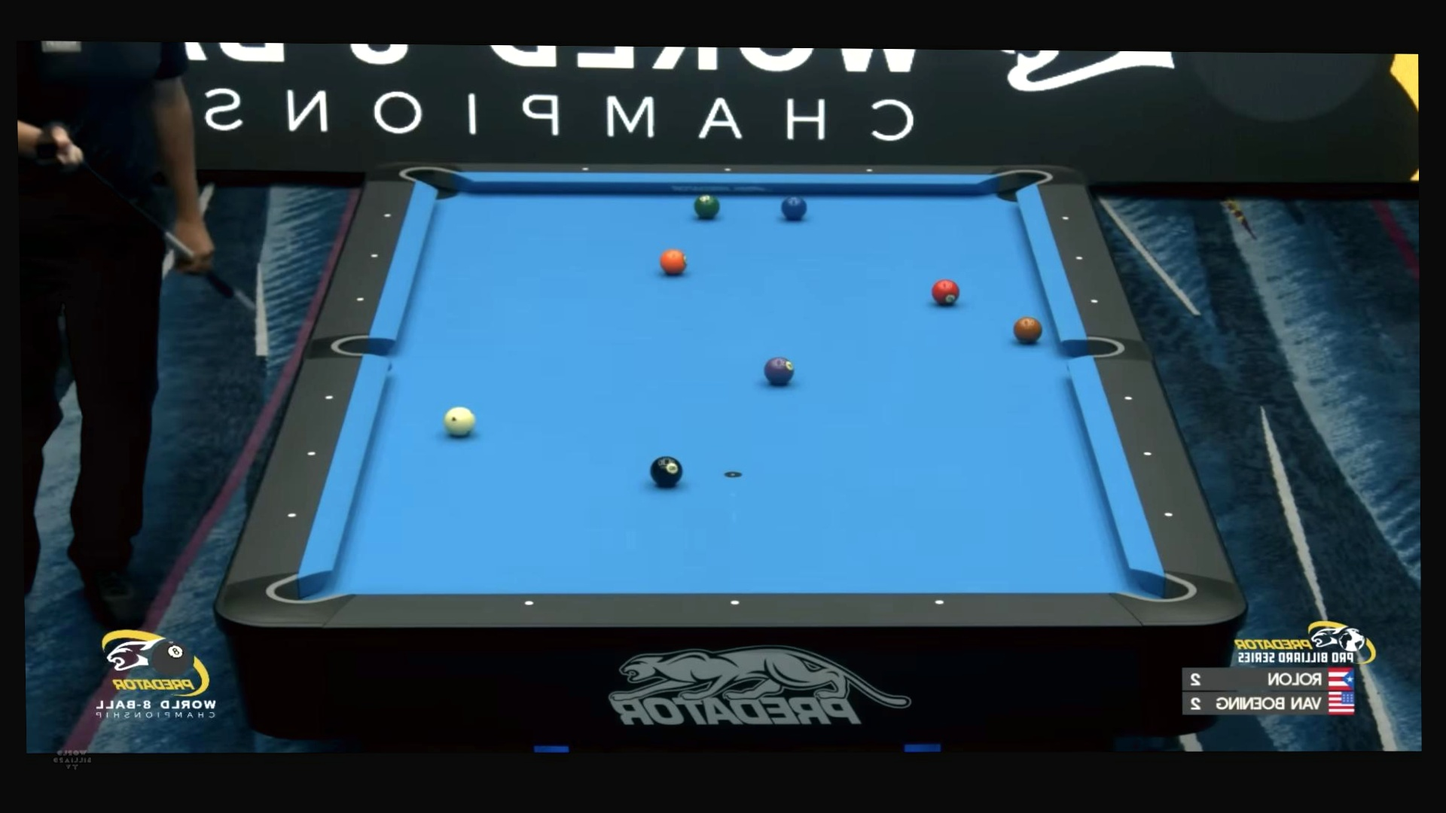Black: (933, 597, 946, 608), (728, 598, 741, 609), (522, 597, 535, 608), (286, 510, 298, 521), (306, 449, 318, 459), (323, 393, 335, 403), (1141, 450, 1152, 459), (1123, 394, 1134, 403), (1164, 510, 1174, 519), (1075, 253, 1084, 262), (383, 211, 392, 220), (1090, 297, 1099, 305), (1061, 214, 1070, 222), (356, 295, 365, 303), (370, 252, 379, 260), (865, 166, 873, 174), (724, 166, 732, 174), (581, 165, 589, 172)
Cue: (763, 356, 794, 385), (1013, 316, 1043, 343), (931, 278, 960, 305), (660, 248, 687, 275), (781, 196, 808, 220), (694, 194, 720, 218)
Solid: (650, 455, 683, 487)
Stripe: (443, 406, 476, 436)
